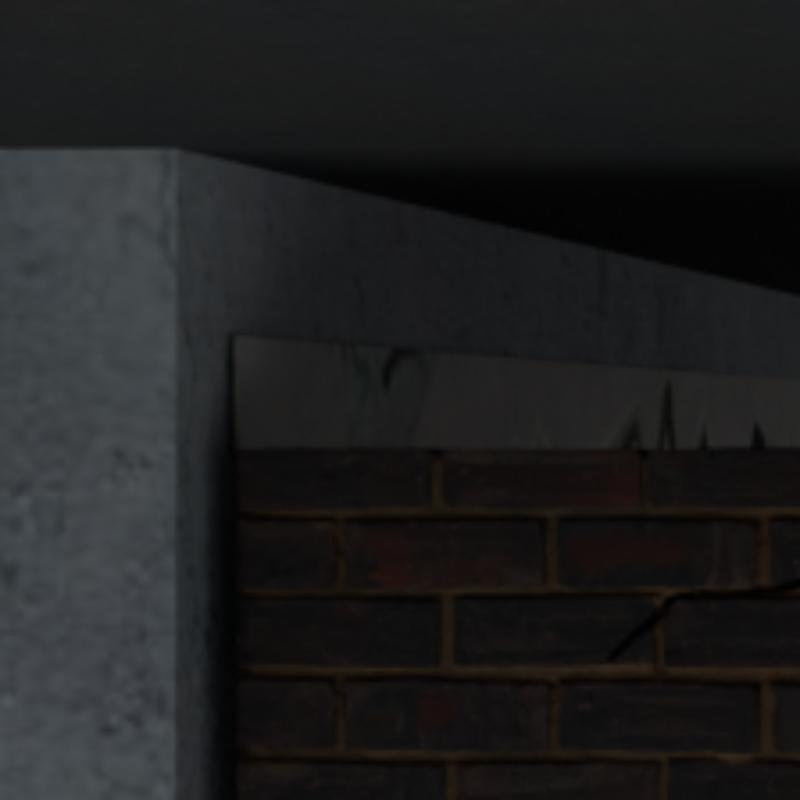pothole: (614, 579, 796, 657)
